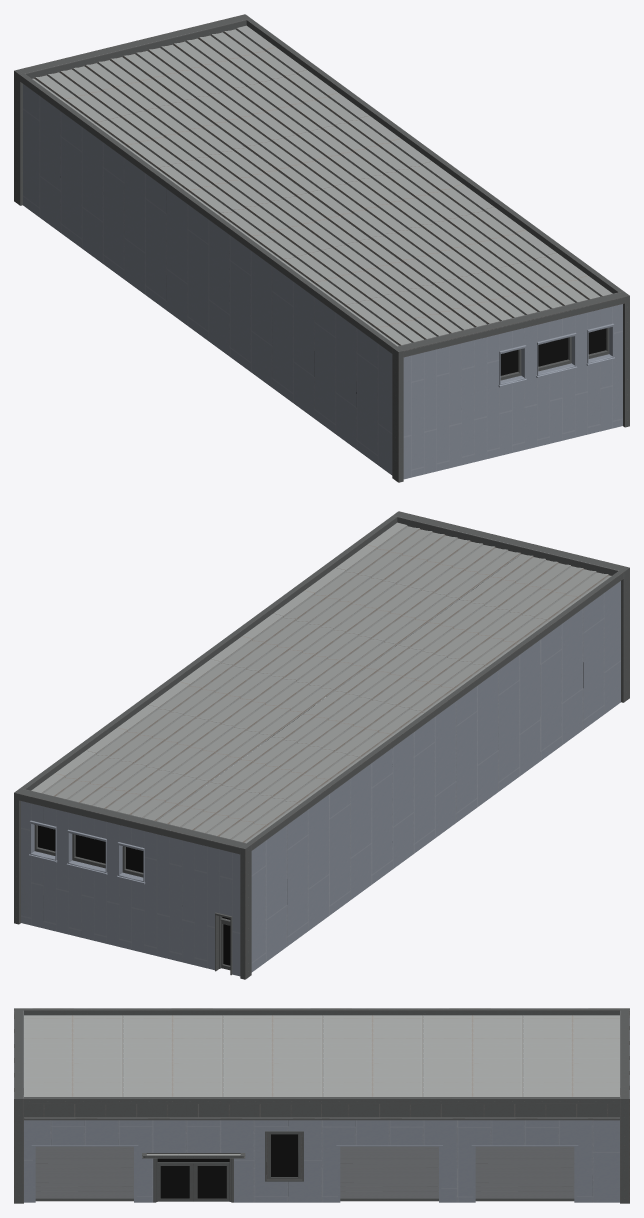
Rendered from Height safety Unity model 5.fbx.
The picture shows the model from 3 angles, top to bottom: view 1: azimuth 30°, elevation 25°; view 2: azimuth 150°, elevation 25°; view 3: azimuth 270°, elevation 25°; orthographic projection. The views are drawn at different scales.
Parts seen in each view (by area): view 1: model_0.004; view 2: model_0.004; view 3: model_0.004.
Boxes of the visible parts, x1=… form: model_0.004: x1=14, y1=14, x2=629, y2=482; model_0.004: x1=14, y1=511, x2=629, y2=979; model_0.004: x1=14, y1=1008, x2=629, y2=1203.
Size of the model in its own units: 2523 by 1329 by 7093.
1 material, 1 textured.
